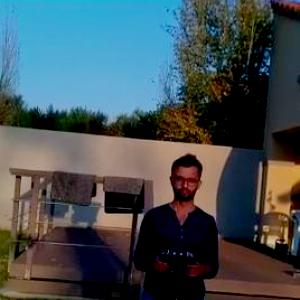follow: (128, 145, 222, 299)
